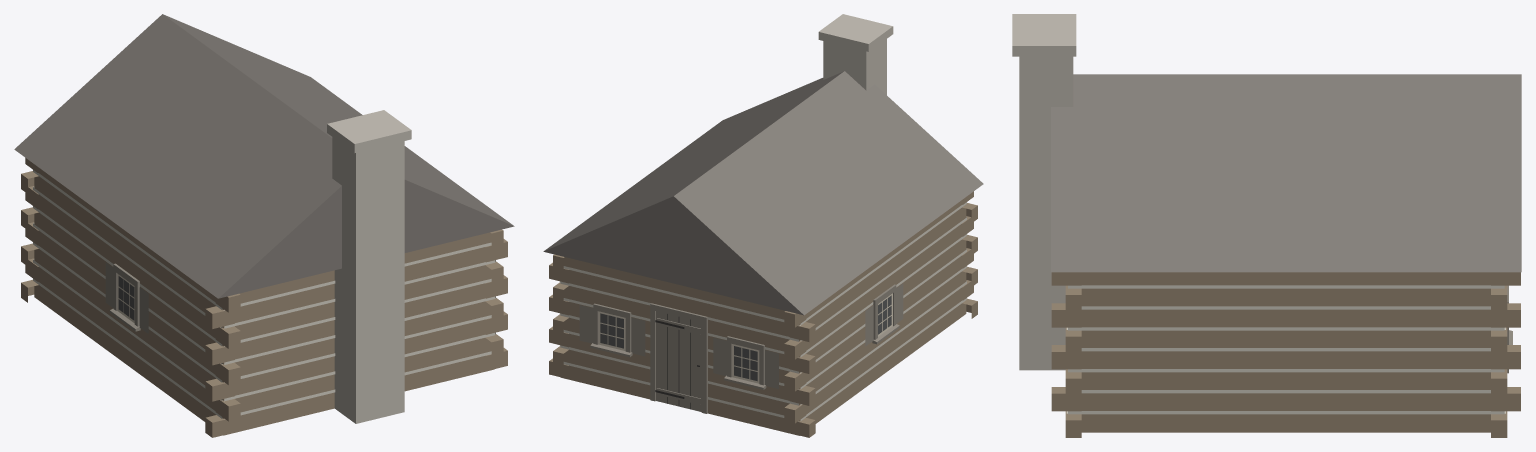
The model's file is recon_1835_north_d1_053__inferred_1835.glb.
3 views of the same model, side by side, from view 1: azimuth 30°, elevation 25°; view 2: azimuth 150°, elevation 25°; view 3: azimuth 270°, elevation 25° (orthographic). The views are drawn at different scales.
Visible parts, largest first — view 1: recon_1835_north_d1_053__inferred_1835; view 2: recon_1835_north_d1_053__inferred_1835; view 3: recon_1835_north_d1_053__inferred_1835.
Boxes of the visible parts, box(x1,y1,x2,y2) form: recon_1835_north_d1_053__inferred_1835: box(14, 14, 514, 437); recon_1835_north_d1_053__inferred_1835: box(543, 14, 983, 437); recon_1835_north_d1_053__inferred_1835: box(1012, 14, 1521, 437).
Bounding box in the file's own units: 5.82 × 5.31 × 7.5.
